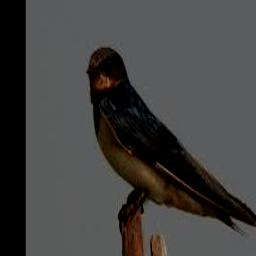Swallow: (87, 49, 256, 232)
